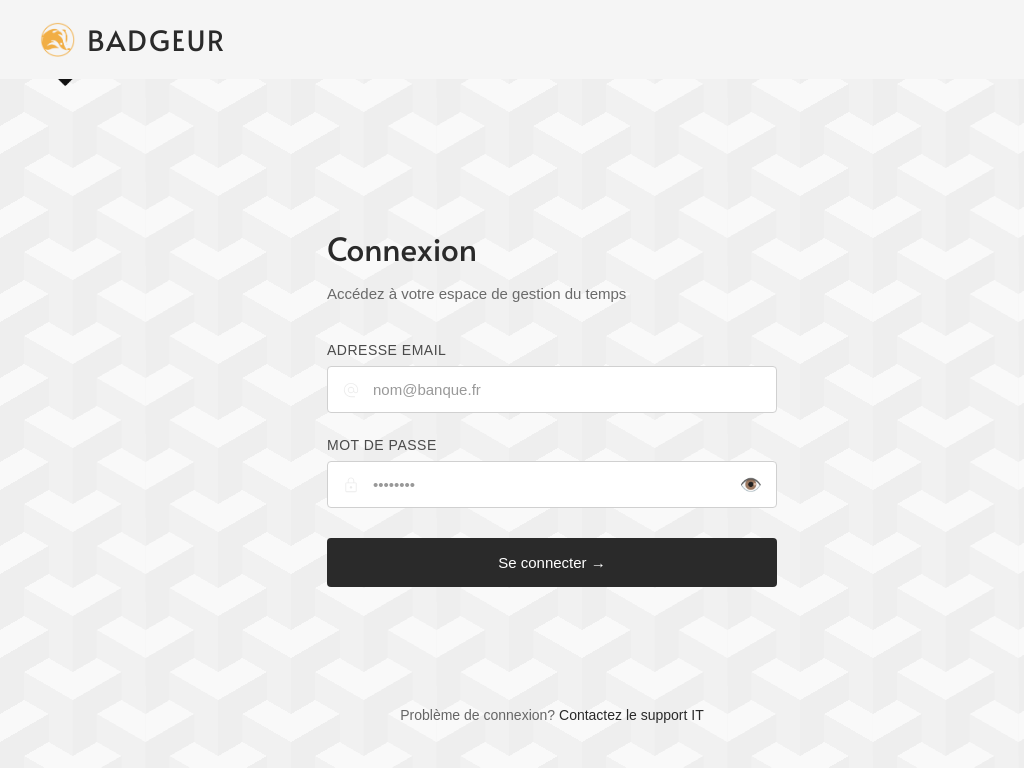
Test: Login Component › Displays error message on failed login
Type "wrong@example.com" into the field with placeholder "nom@banque.fr" at (552, 390), box 327,366 -> 777,413
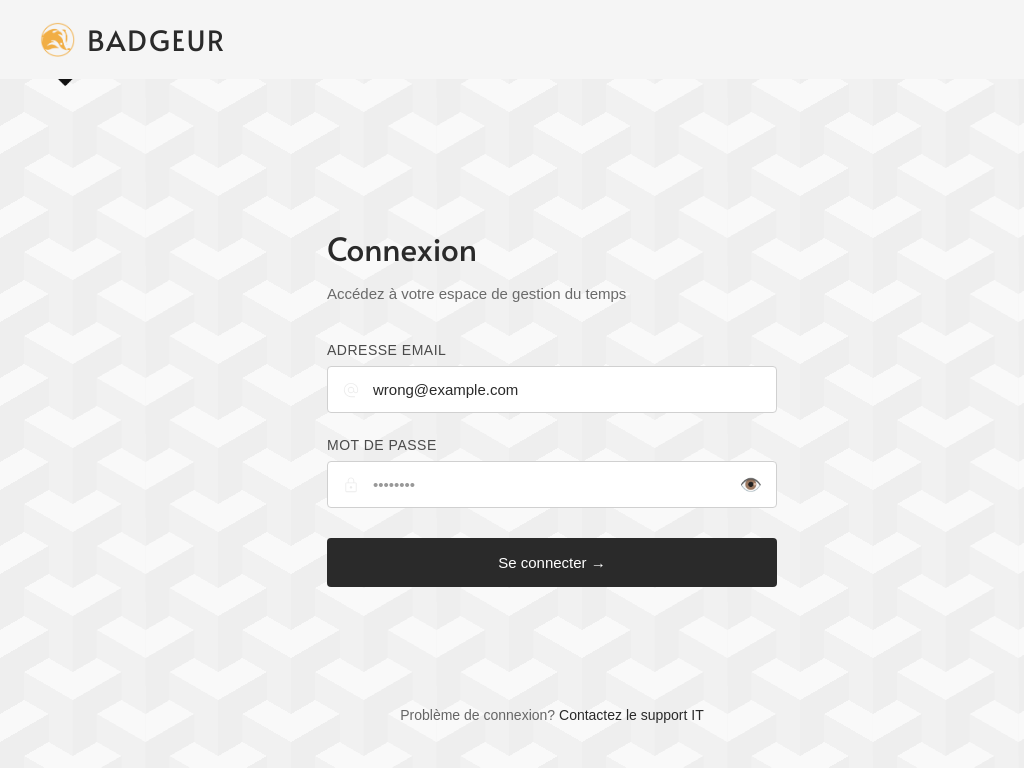
Type "wrongpassword" into the password field labelled "Mot de passe" at (552, 485), box 327,461 -> 777,508
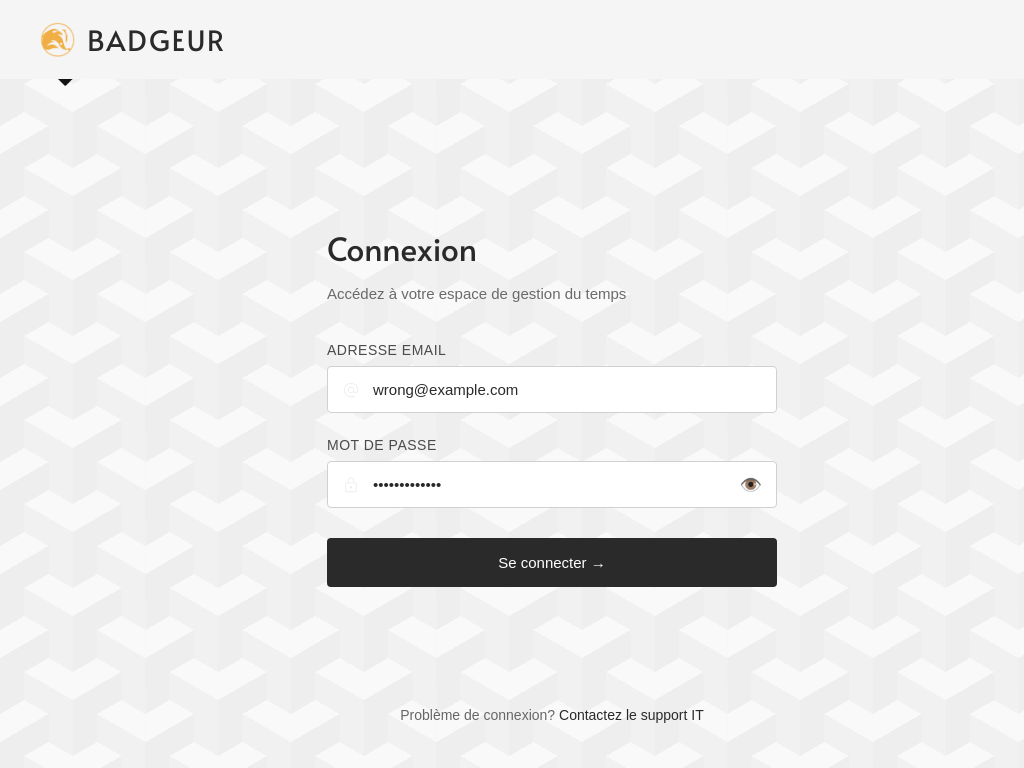
Click the button "Se connecter →" at (552, 563), box 327,538 -> 777,587
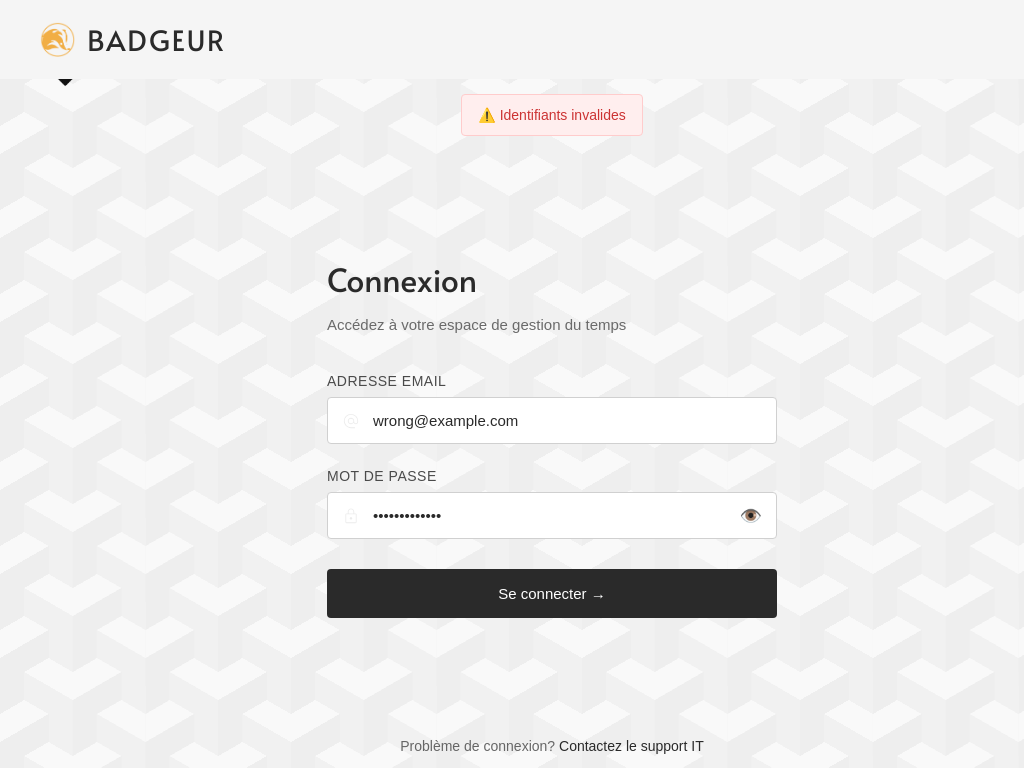
Expected: the text "⚠️ Identifiants invalides" is shown, 461,94 -> 643,136
